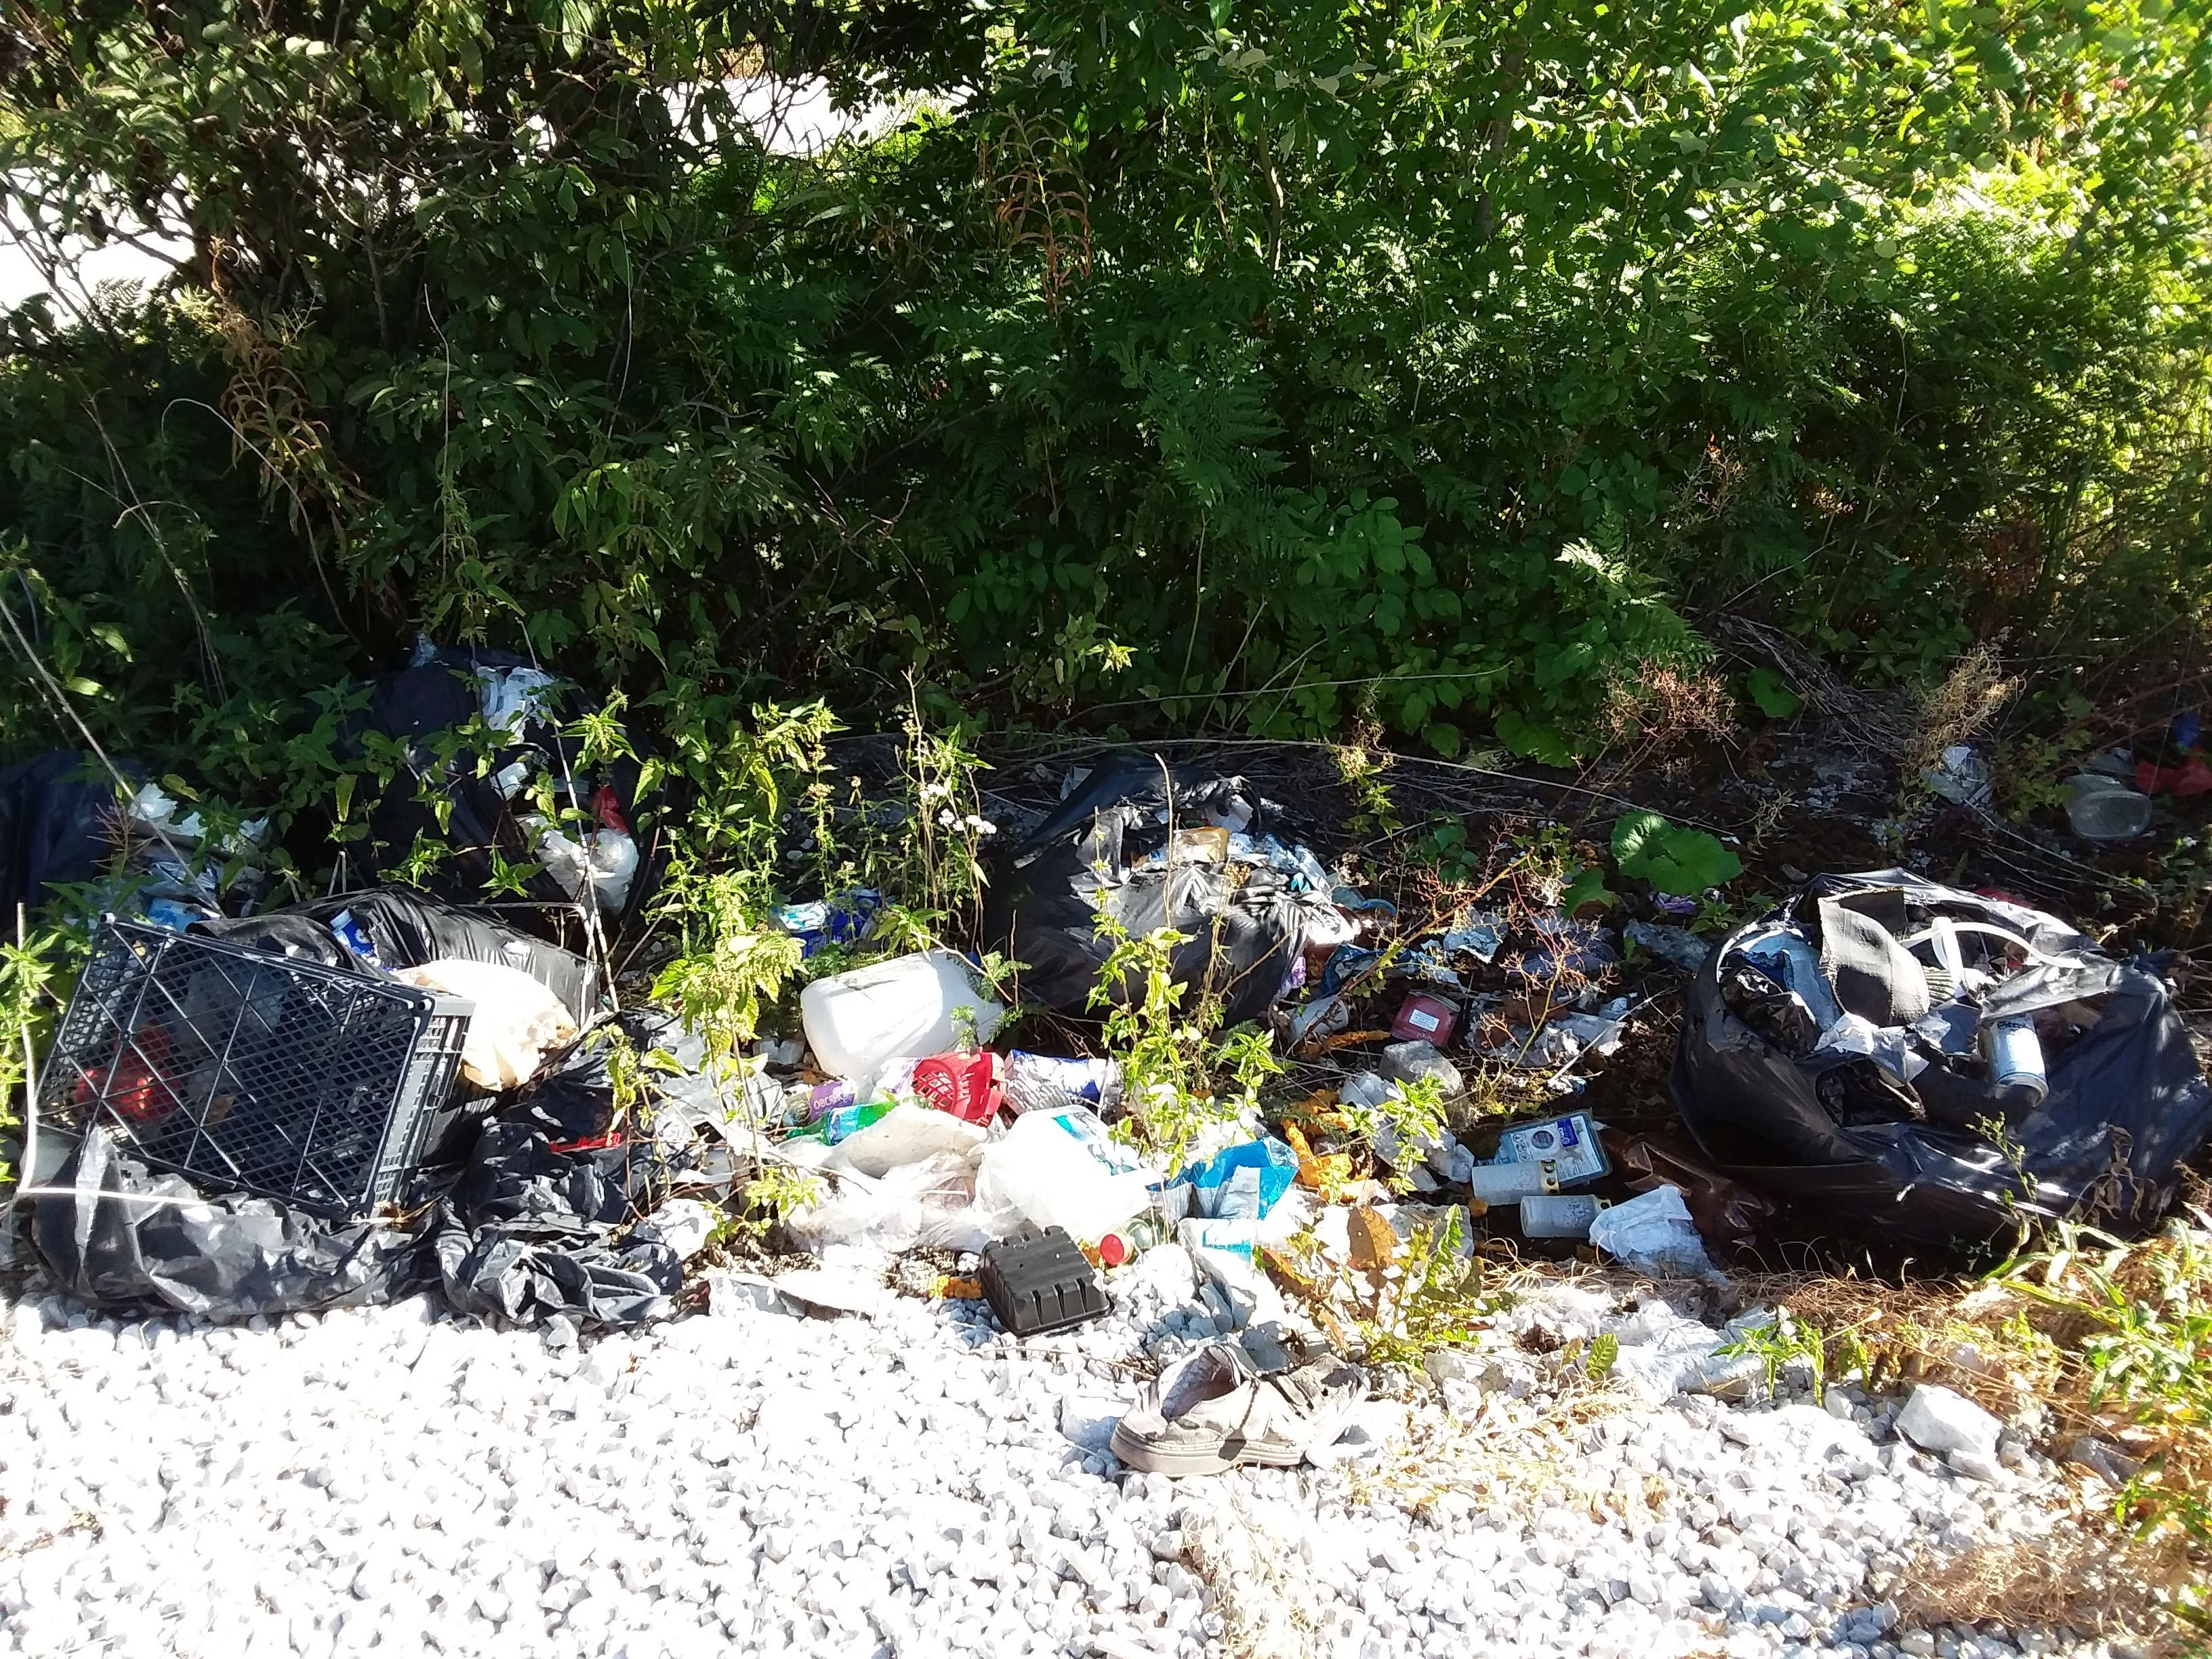trash: (24, 603, 2184, 1481)
